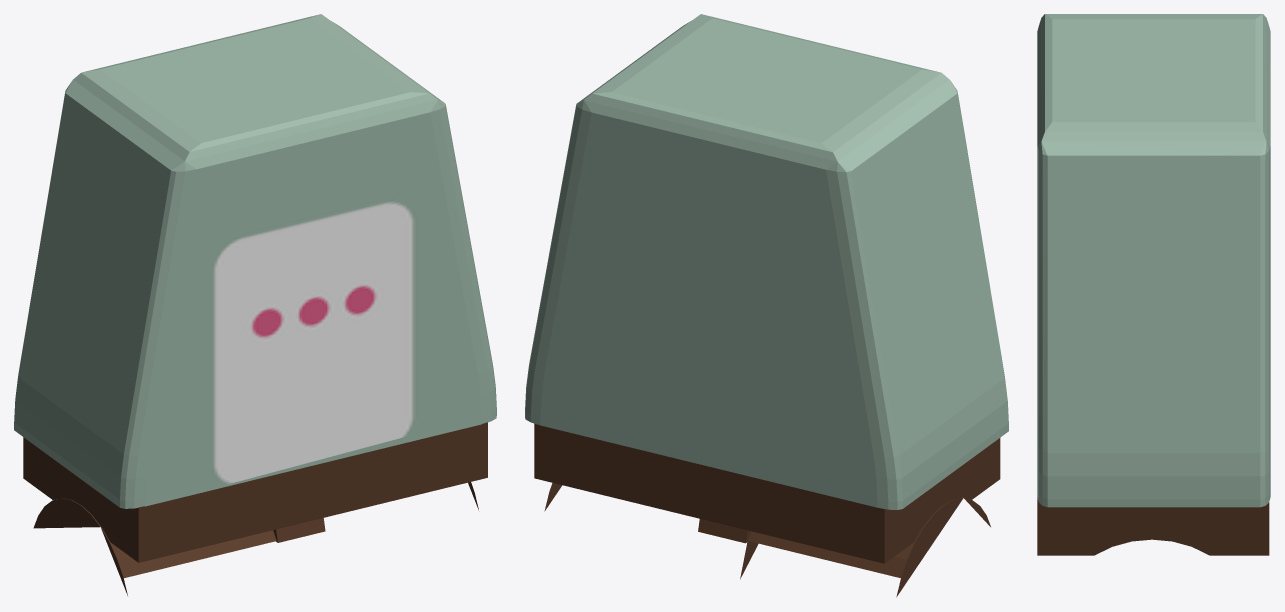
Rendered from torso.glb.
The picture shows the model from 3 angles, left to right: view 1: azimuth 30°, elevation 25°; view 2: azimuth 150°, elevation 25°; view 3: azimuth 270°, elevation 25°; orthographic projection.
Parts seen in each view (by area): view 1: mom_torso; view 2: mom_torso; view 3: mom_torso.
Part boxes in pixels (bbox=[...]): mom_torso: bbox=[14, 14, 496, 595]; mom_torso: bbox=[525, 14, 1008, 597]; mom_torso: bbox=[1037, 14, 1270, 555].
Bounding box in the file's own units: 0.6858 × 0.7937 × 0.3654.
Materials: 3 (1 with a texture image).
